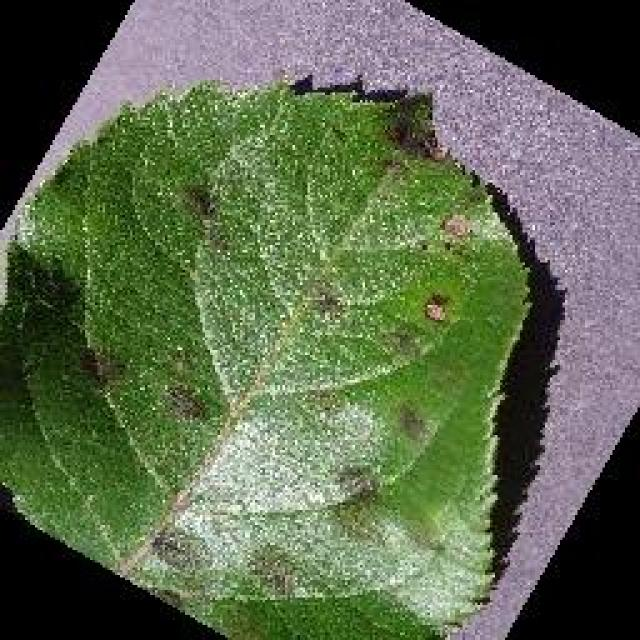apple scab disease: (0, 72, 538, 638)
